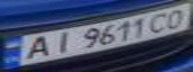1: (115, 19, 136, 43), (130, 15, 151, 38)
6: (100, 22, 121, 47)
9: (78, 25, 103, 51)
A: (15, 34, 57, 62)
C: (145, 10, 175, 34)
I: (45, 29, 78, 56)
O: (160, 7, 193, 29)
